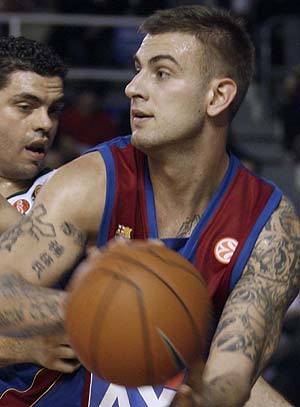basketball: (68, 242, 213, 387)
